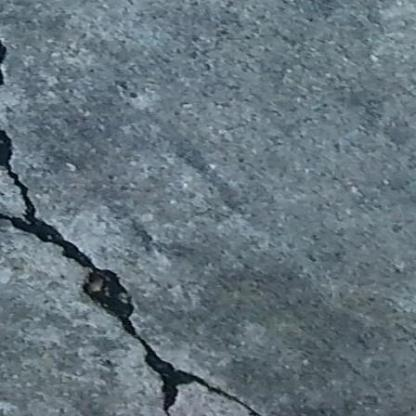Cracks: (0, 0, 259, 227), (0, 224, 290, 416)
